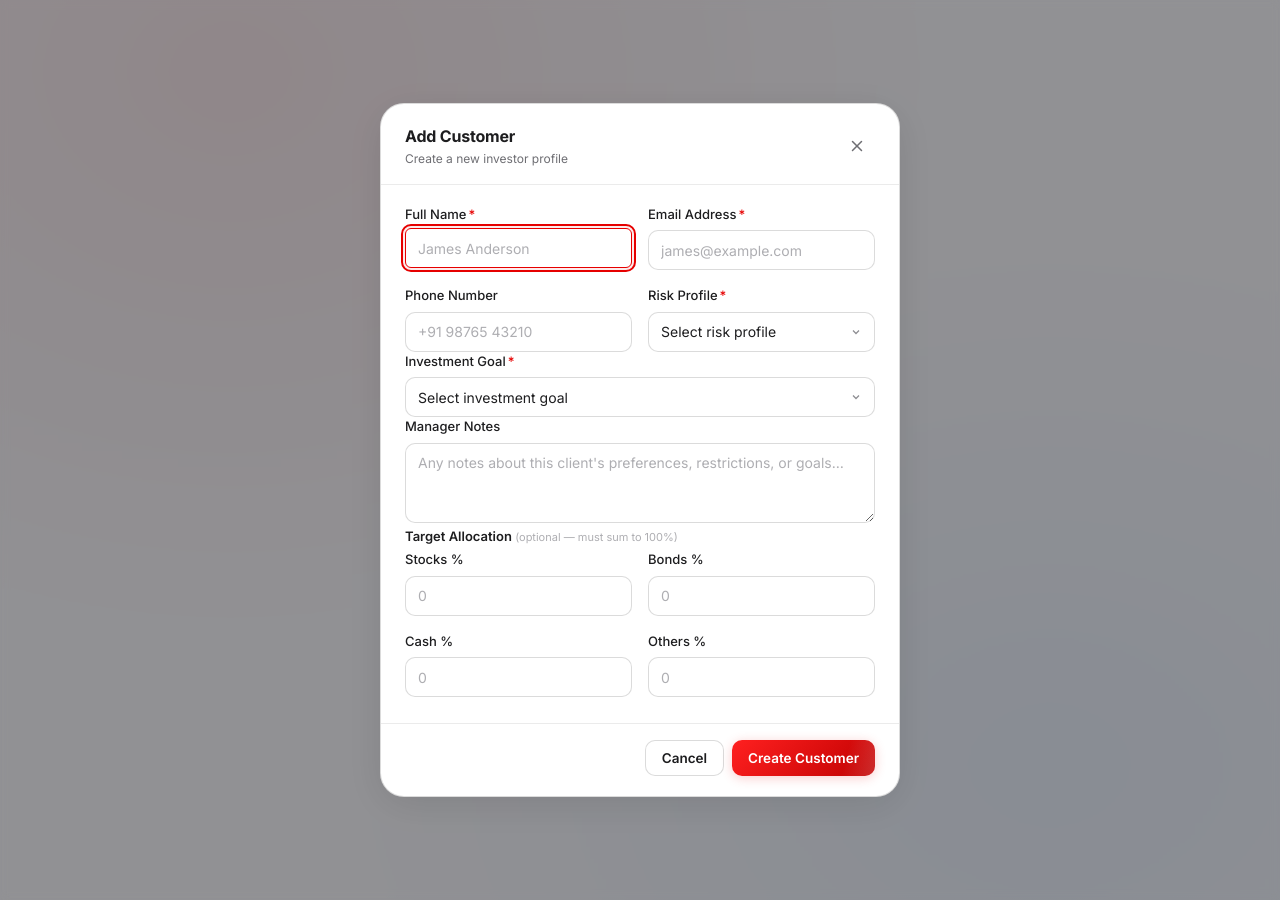
Test: CustomerForm — validation › shows name error when submitting with empty name
Click the button "Create Customer".
click(804, 758)  # box [732,740,875,776]
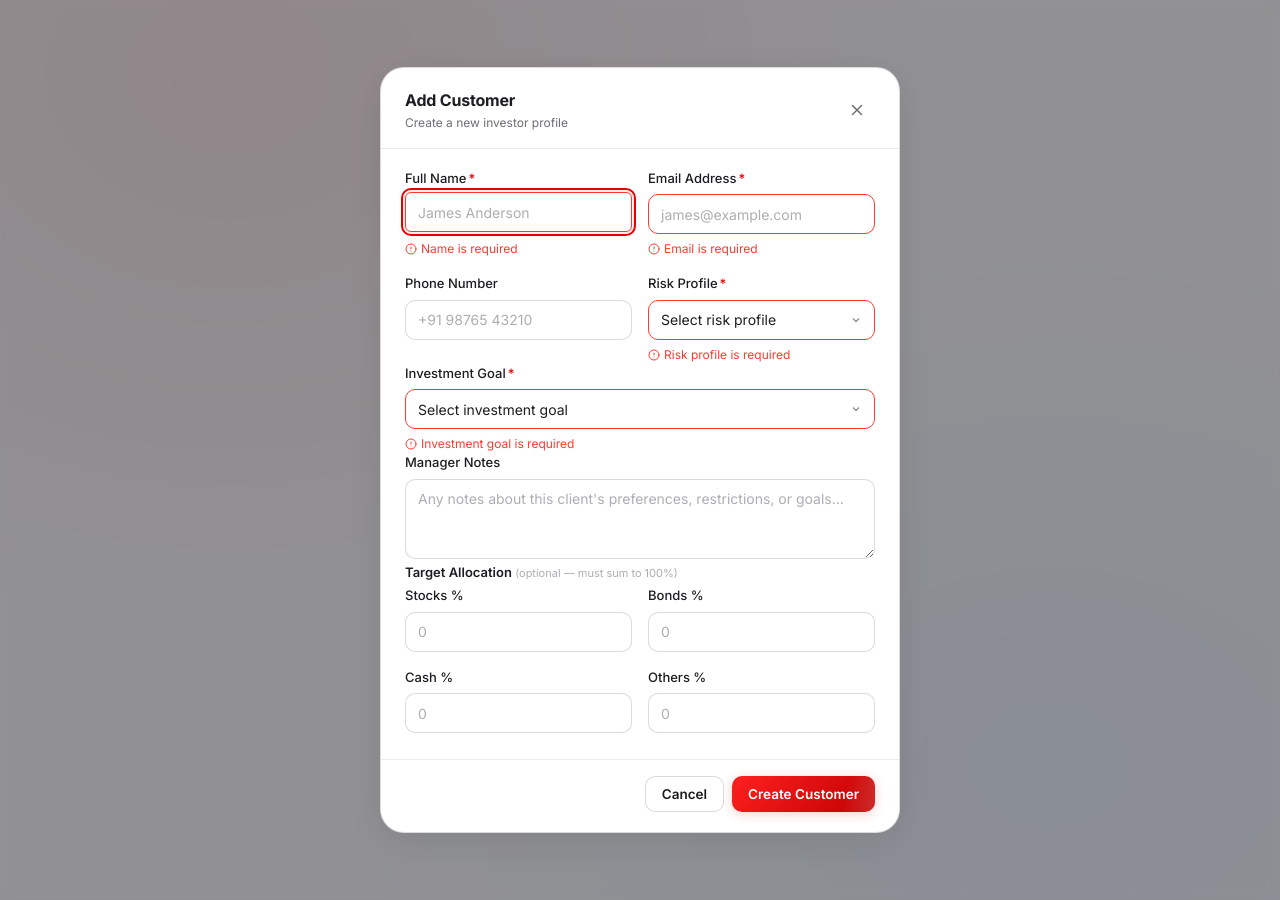
Now the text "Name is required" is shown, box [405,241,518,256]
